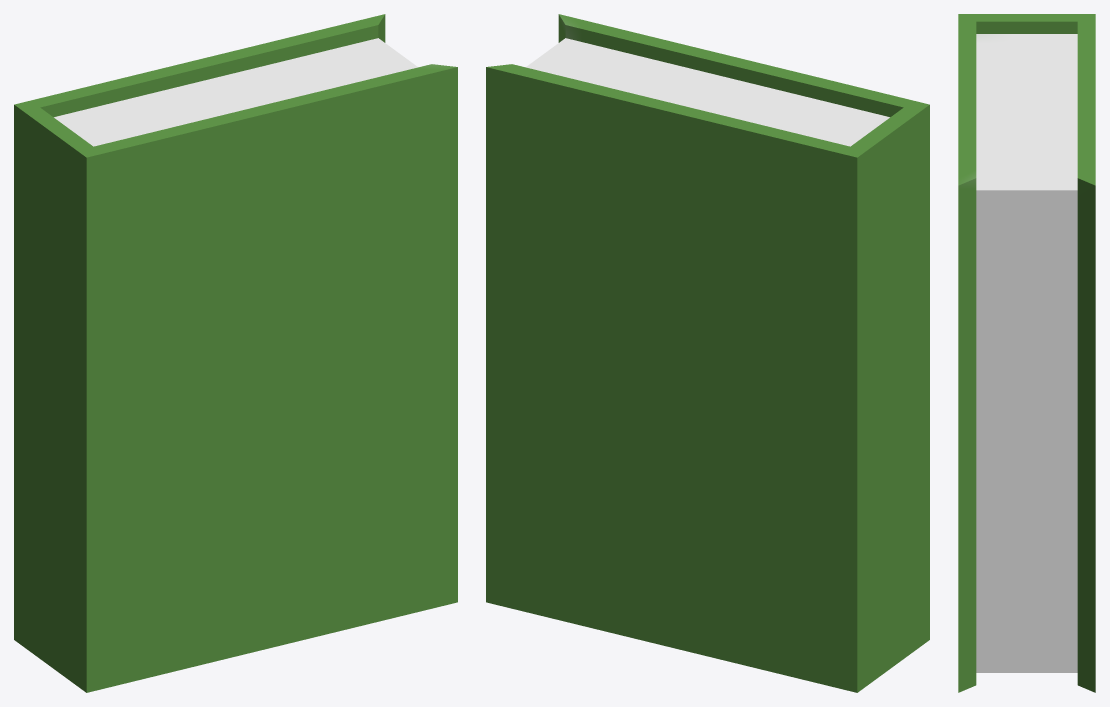
The model's file is book_01.fbx.
The picture shows the model from 3 angles, left to right: view 1: azimuth 30°, elevation 25°; view 2: azimuth 150°, elevation 25°; view 3: azimuth 270°, elevation 25°; orthographic projection. The views are drawn at different scales.
Visible parts, largest first — view 1: book_01; view 2: book_01; view 3: book_01.
Boxes of the visible parts, x1,y1,x2,y2 form: book_01: [14, 14, 457, 692]; book_01: [486, 14, 929, 692]; book_01: [958, 14, 1095, 692].
Bounding box in the file's own units: 145 × 200 × 49.09.
